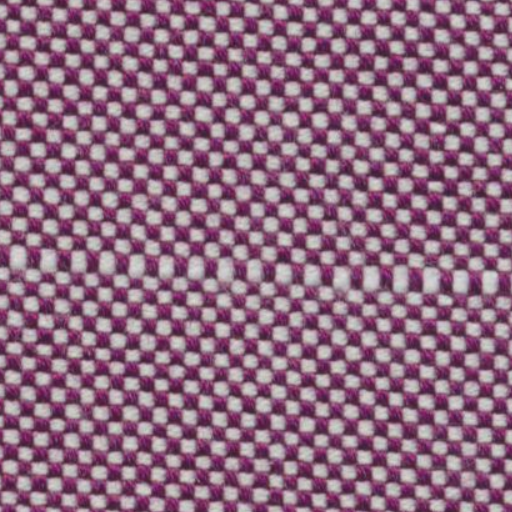TuoSha: (8, 218, 502, 310)
